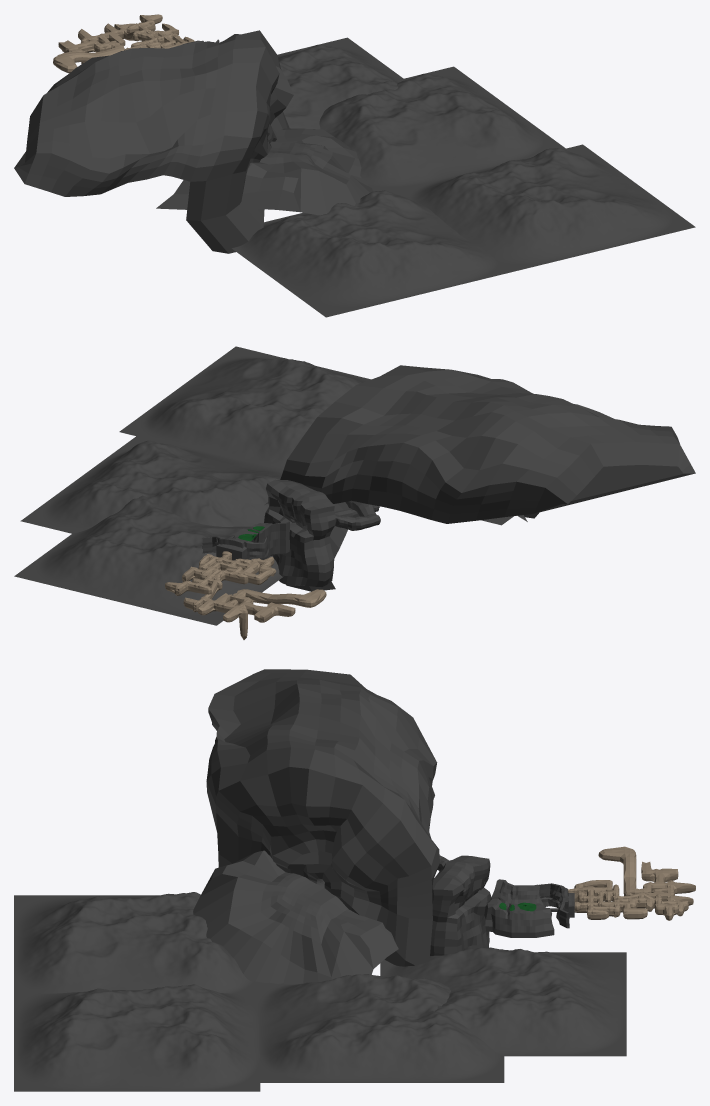
File: platform test 2.fbx
3 renders of one model, top to bottom at view 1: azimuth 30°, elevation 25°; view 2: azimuth 150°, elevation 25°; view 3: azimuth 270°, elevation 25°, orthographic. The views are drawn at different scales.
Parts seen in each view (by area): view 1: Cube, Landscape.001, Landscape.003, Landscape, Landscape.004, Cube.001; view 2: Cube, Landscape.001, Landscape.004, Landscape, Cube.001, Cube.002, Cube.003; view 3: Cube, Landscape.001, Landscape, Landscape.003, Landscape.004, Cube.001, Cube.002.
Boxes of the visible parts, x1,y1,x2,y2 form: Cube: [14, 30, 373, 253]; Landscape.001: [409, 144, 695, 269]; Landscape.003: [232, 187, 521, 317]; Landscape: [319, 66, 566, 192]; Landscape.004: [277, 37, 404, 129]; Cube.001: [53, 14, 194, 73]; Cube: [232, 365, 695, 591]; Landscape.001: [119, 346, 370, 470]; Landscape.004: [14, 495, 283, 625]; Landscape: [20, 436, 282, 533]; Cube.001: [165, 551, 326, 639]; Cube.002: [202, 536, 268, 560]; Cube.003: [290, 500, 380, 533]; Cube: [193, 669, 554, 984]; Landscape.001: [14, 984, 260, 1091]; Landscape: [258, 974, 504, 1082]; Landscape.003: [14, 892, 260, 999]; Landscape.004: [380, 947, 626, 1056]; Cube.001: [568, 846, 695, 920]; Cube.002: [539, 883, 574, 928].
Size of the model in its own units: 48153 by 16258 by 46826.
